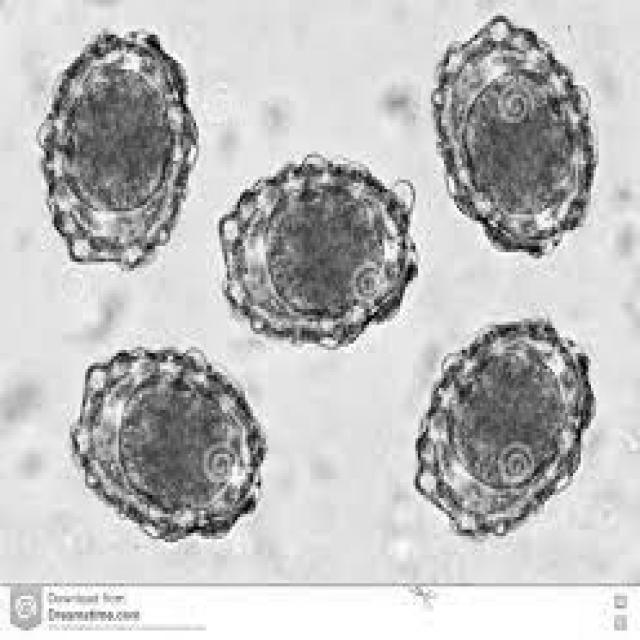Ascaris Lumbricoides: (422, 6, 605, 278), (50, 336, 275, 556), (403, 304, 601, 538), (213, 150, 430, 361), (35, 22, 202, 284)
